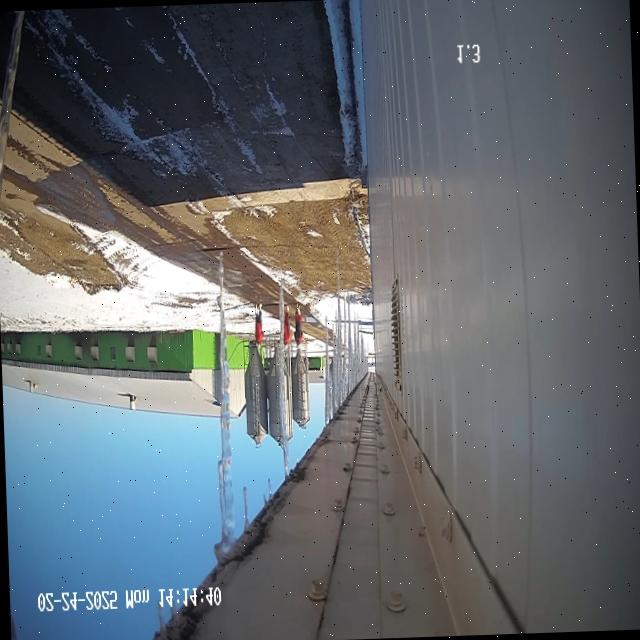Red uniform: (294, 303, 303, 347), (255, 303, 263, 348), (283, 311, 290, 346)
